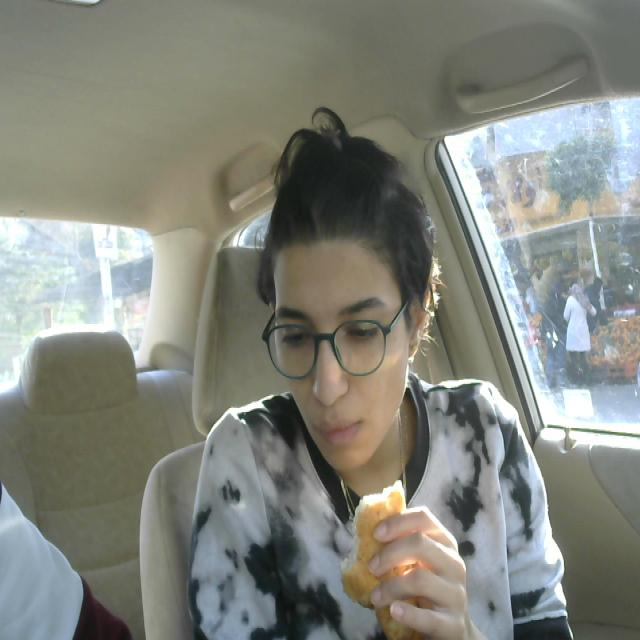eating: (338, 485, 432, 640)
